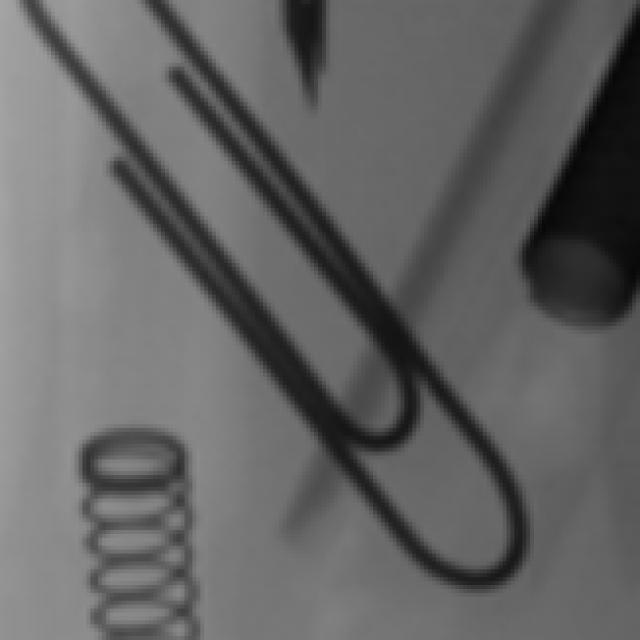GUN: (558, 1, 640, 346)
